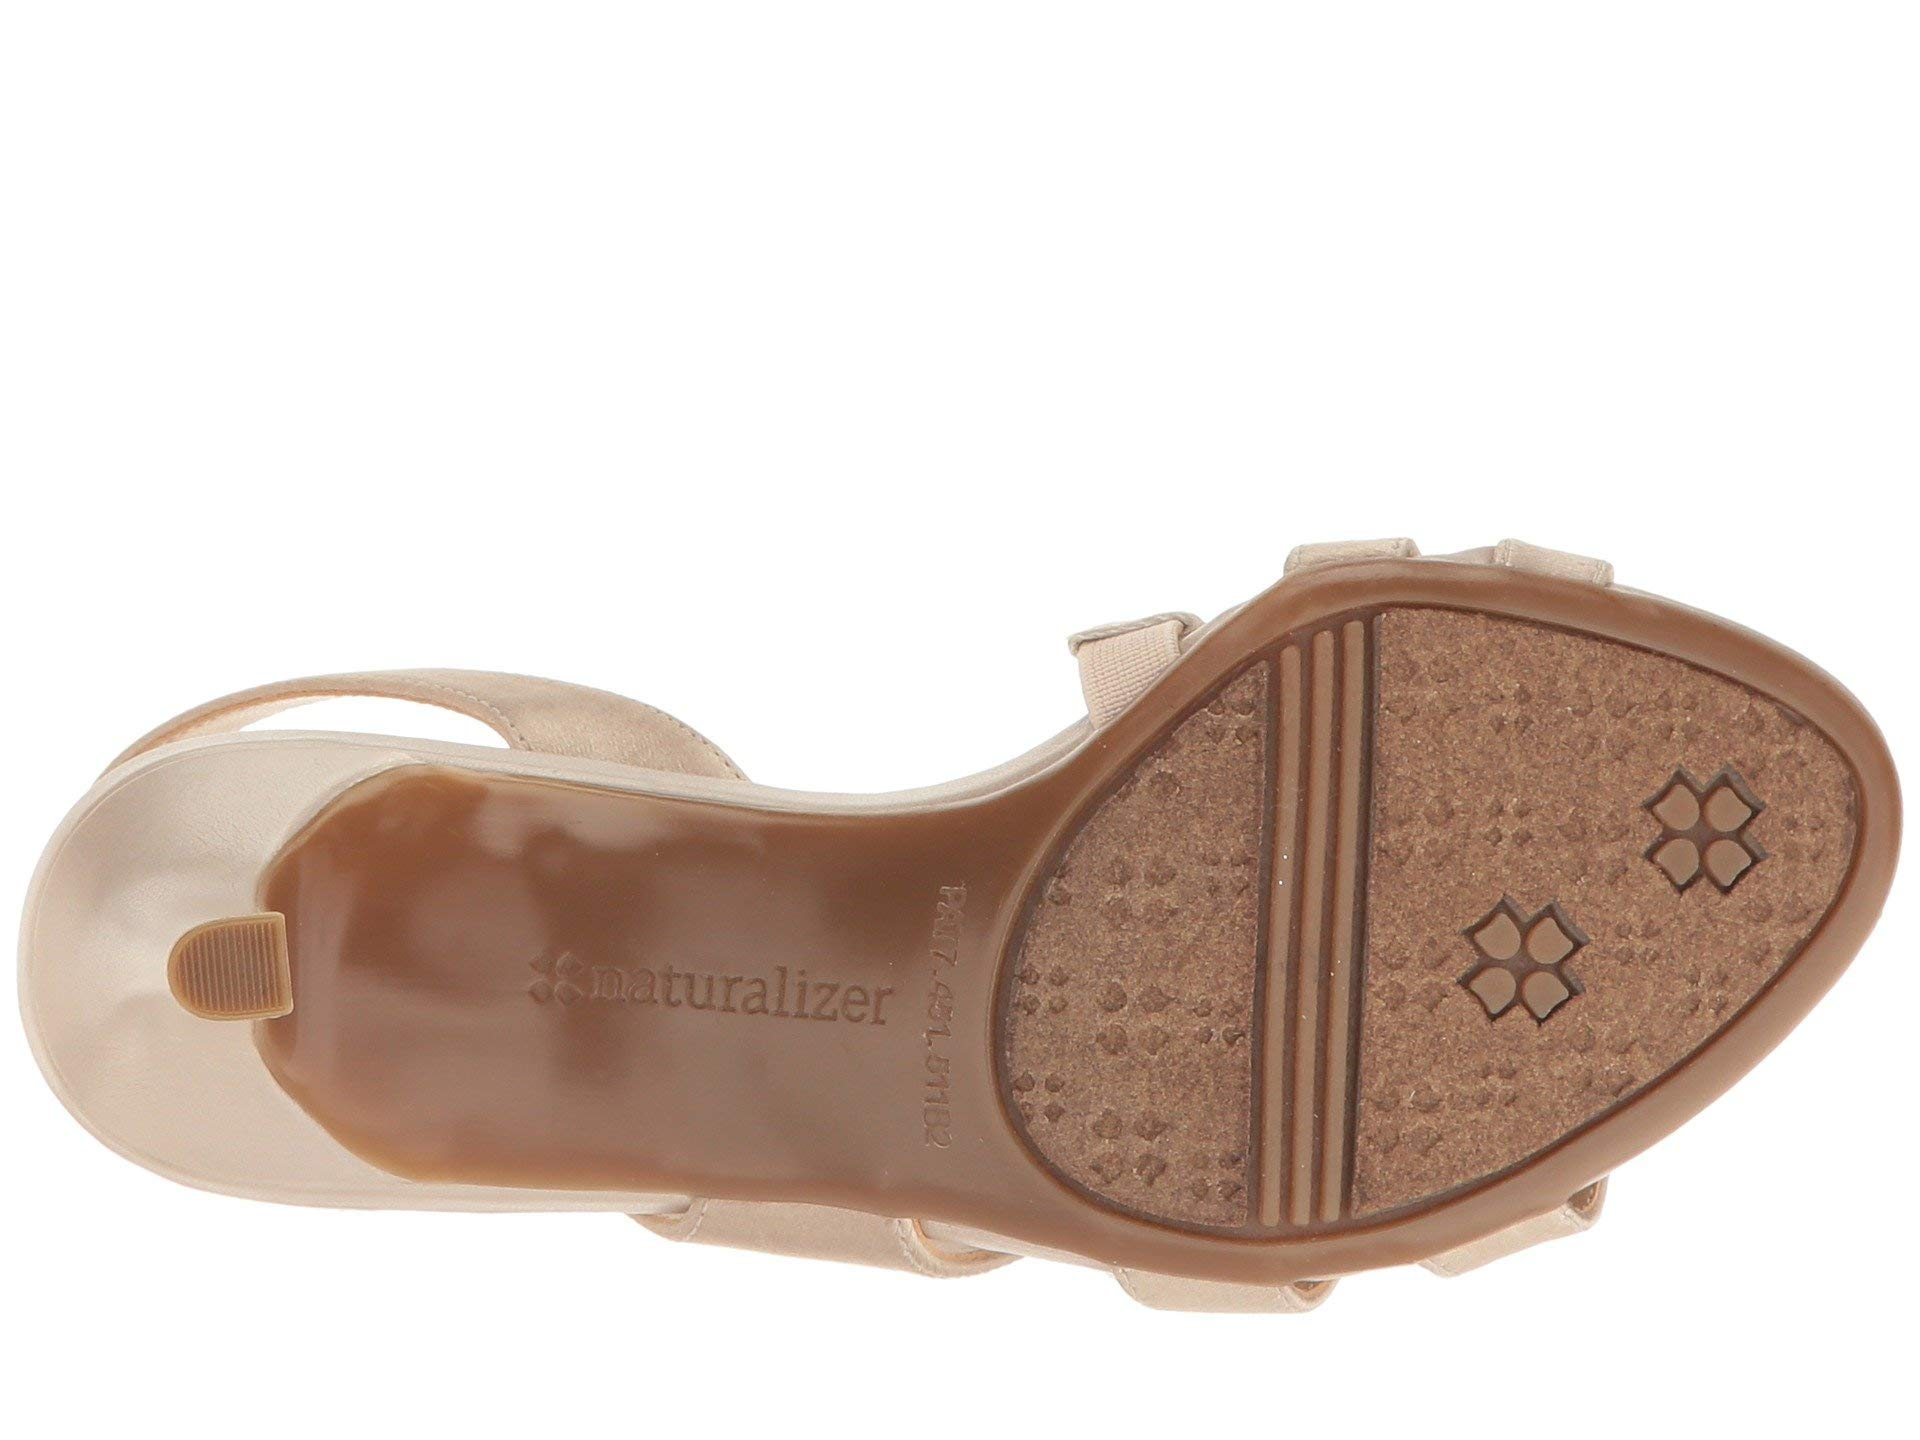exclude: (15, 664, 1034, 1004), (11, 971, 1027, 1280)
line: (1253, 690, 1395, 951), (200, 945, 281, 1003)
quad: (1429, 874, 1606, 1063), (1622, 743, 1788, 926), (1076, 947, 1231, 1128)
star: (1429, 874, 1606, 1063), (1622, 743, 1788, 926)
